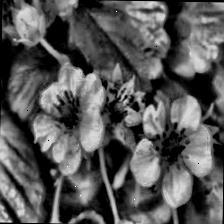Blossom Blight: (148, 120, 192, 174), (48, 89, 86, 139), (104, 89, 133, 126)
